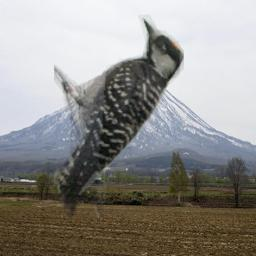Woodpecker: (54, 10, 184, 218)
